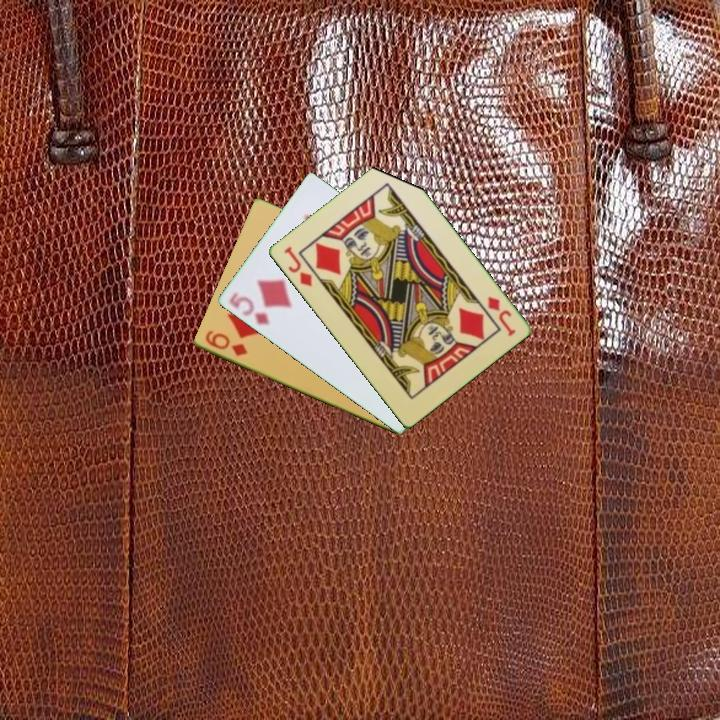5d: (225, 289, 272, 328)
6d: (201, 327, 250, 359)
Jd: (280, 243, 315, 289), (484, 293, 518, 339)
